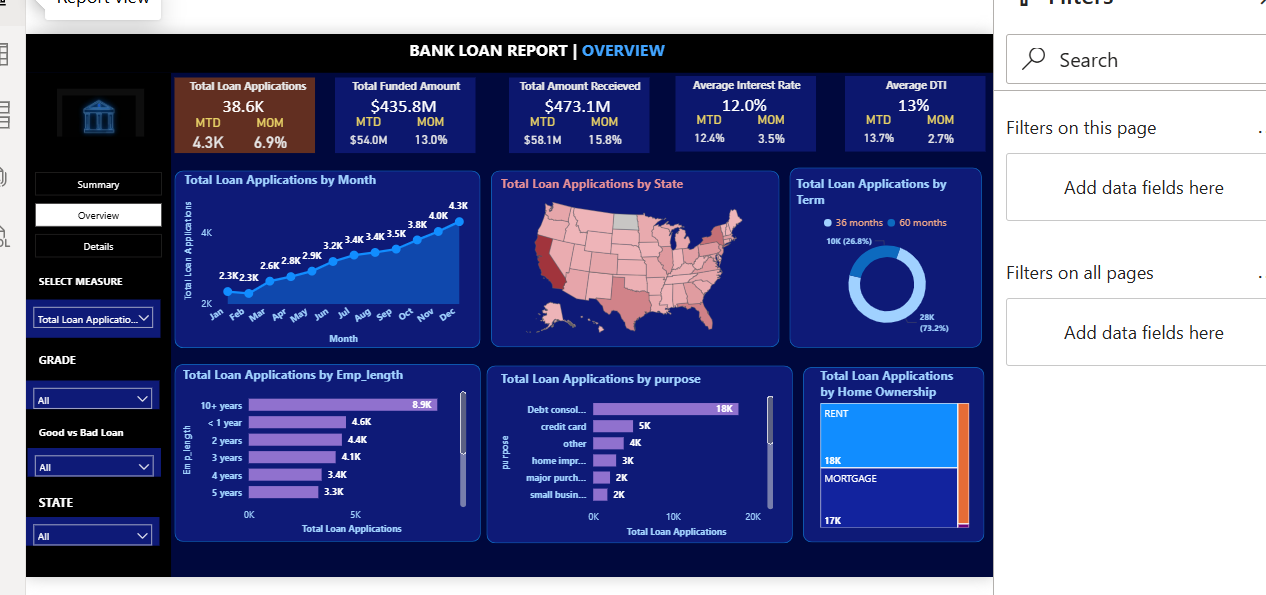

The page's visual inventory and layout, read from the dashboard file:
{"tool":"powerbi","page":{"name":"Overview","canvas":[1280,720],"ordinal":1},"visuals":[{"type":"shape","box":[0,0,1280.7,51.6],"z":0},{"type":"shape","box":[858.9,56.2,186.1,100.2],"z":0,"group":"g4"},{"type":"shape","box":[1083.2,56.2,186.1,100.2],"z":0,"group":"g5"},{"type":"shape","box":[408.8,57.8,186.1,100.2],"z":0,"group":"g2"},{"type":"shape","box":[639.4,57.8,186.1,100.2],"z":0,"group":"g3"},{"type":"shape","box":[197.2,58.9,186.1,100.2],"z":0,"group":"g1"},{"type":"textbox","box":[502.6,0,356.3,81.1],"z":1000},{"type":"group","id":"g1","title":"Group 1","box":[197.2,54.1,186.1,105],"z":2000},{"type":"shape","box":[197.2,179.7,405,235],"z":3000},{"type":"group","id":"g2","title":"Group 1","box":[408.8,54.1,187.7,103.4],"z":4000},{"type":"card","fields":{"Values":["financial_loan.Average Interest Rate"]},"box":[858.9,56.2,181.3,74.8],"z":4000,"group":"g4"},{"type":"card","fields":{"Values":["financial_loan.Average DTI"]},"box":[1083.2,56.2,181.3,74.8],"z":4000,"group":"g5"},{"type":"card","fields":{"Values":["financial_loan.Total Funded Amount"]},"box":[408.8,57.8,181.3,74.8],"z":4000,"group":"g2"},{"type":"card","fields":{"Values":["financial_loan.Total Amount Recieved"]},"box":[639.4,57.8,181.3,74.8],"z":4000,"group":"g3"},{"type":"card","fields":{"Values":["financial_loan.Total Loan Applications"]},"box":[197.2,58.9,181.3,74.8],"z":4000,"group":"g1"},{"type":"textbox","box":[861.8,52.5,184.5,35],"z":5000,"group":"g4"},{"type":"textbox","box":[1086.1,52.5,184.5,35],"z":5000,"group":"g5"},{"type":"textbox","box":[205.2,54.1,178.1,35],"z":5000,"group":"g1"},{"type":"textbox","box":[411.7,54.1,184.5,35],"z":5000,"group":"g2"},{"type":"group","id":"g3","title":"Group 1","box":[639.4,54.1,187.7,103.4],"z":5000},{"type":"textbox","box":[642.3,54.1,184.5,35],"z":5000,"group":"g3"},{"type":"group","id":"g4","title":"Group 1","box":[858.9,52.5,187.7,103.4],"z":6000},{"type":"card","title":"MTD","fields":{"Values":["financial_loan.MTD Average Interest Rate"]},"box":[866.9,104.5,72.9,50.6],"z":6000,"group":"g4"},{"type":"card","title":"MTD","fields":{"Values":["financial_loan.MTD Average DTI"]},"box":[1091.2,104.5,72.9,50.6],"z":6000,"group":"g5"},{"type":"card","title":"MTD","fields":{"Values":["financial_loan.MTD Funded Amount"]},"box":[416.8,106.1,72.9,50.6],"z":6000,"group":"g2"},{"type":"card","title":"MTD","fields":{"Values":["financial_loan.MTD Total Amount Recieved"]},"box":[647.4,106.1,72.9,50.6],"z":6000,"group":"g3"},{"type":"card","title":"MTD","fields":{"Values":["financial_loan.MTD Loan Application"]},"box":[205.2,107.2,72.9,50.6],"z":6000,"group":"g1"},{"type":"group","id":"g5","title":"Group 1","box":[1083.2,52.5,187.7,103.4],"z":7000},{"type":"card","title":"MOM","fields":{"Values":["financial_loan.MOM Average Interest Rate"]},"box":[956.1,104.5,58.7,50.6],"z":7000,"group":"g4"},{"type":"card","title":"MOM","fields":{"Values":["financial_loan.MOM Average DTI"]},"box":[1180.4,104.5,58.7,50.6],"z":7000,"group":"g5"},{"type":"card","title":"MOM","fields":{"Values":["financial_loan.MOM Total Funded Amount"]},"box":[506,106.1,58.7,50.6],"z":7000,"group":"g2"},{"type":"card","title":"MOM","fields":{"Values":["financial_loan.MOM Total Amount Recieved"]},"box":[736.6,106.1,58.7,50.6],"z":7000,"group":"g3"},{"type":"card","title":"MOM","fields":{"Values":["financial_loan.MOM Loan Application"]},"box":[294.4,107.2,58.7,50.6],"z":7000,"group":"g1"},{"type":"shape","box":[0,51.6,192,669],"z":8000},{"type":"slicer","fields":{"Values":["financial_loan.address_state"]},"box":[0,639.4,176.6,38.2],"z":9000},{"type":"textbox","box":[12.7,602.8,76.3,36.6],"z":10000},{"type":"slicer","fields":{"Values":["financial_loan.Good vs Bad Loan"]},"box":[1.6,548.8,176.6,38.2],"z":11000},{"type":"slicer","fields":{"Values":["financial_loan.grade"]},"box":[0,458.1,176.6,38.2],"z":12000},{"type":"textbox","box":[12.7,512.2,122.5,36.6],"z":13000},{"type":"textbox","box":[12.7,415.1,122.5,42.9],"z":14000},{"type":"areaChart","fields":{"Y":["financial_loan.Total Loan Applications"],"Category":["Date Table.Month"]},"box":[205.2,179.7,384.9,235.4],"z":15000},{"type":"slicer","fields":{"Values":["Select Measures.Select Measures"]},"box":[0,351.5,178.1,50.9],"z":16000},{"type":"textbox","box":[12.7,311.8,147.9,46.1],"z":17000},{"type":"shape","box":[615.6,179.7,381.7,233.8],"z":18000},{"type":"shapeMap","fields":{"Value":["financial_loan.Total Loan Applications"],"Category":["financial_loan.address_state"]},"box":[623.5,186.1,362.7,222.7],"z":19000},{"type":"shape","box":[1010,176.6,254.5,238.6],"z":20000},{"type":"donutChart","fields":{"Y":["financial_loan.Total Loan Applications"],"Category":["financial_loan.term"]},"box":[1014.8,186.1,249.7,216.3],"z":21000},{"type":"shape","box":[197.2,437.4,405.6,235.4],"z":22000},{"type":"shape","box":[609.2,439,405.6,235.4],"z":23000},{"type":"shape","box":[1029.1,440.6,240.2,232.2],"z":24000},{"type":"barChart","fields":{"Y":["financial_loan.Total Loan Applications"],"Category":["financial_loan.emp_length"]},"box":[202,439,384.9,229],"z":25000},{"type":"barChart","fields":{"Y":["financial_loan.Total Loan Applications"],"Category":["financial_loan.purpose"]},"box":[623.5,443.8,370.6,225.9],"z":26000},{"type":"treemap","fields":{"Values":["financial_loan.Total Loan Applications"],"Group":["financial_loan.home_ownership"]},"box":[1046.6,440.6,206.8,217.9],"z":27000},{"type":"pageNavigator","box":[12.7,182.9,168.6,114.5],"z":28000},{"type":"image","box":[35,27,125.7,152.7],"z":29000}]}

Visuals, with their boxes on the page's 1280x720 design canvas (x1, y1, x2, y2). These are canvas units, not pixel positions in the 1266x595 screenshot, which may show the page scaled, cropped or inside an application window:
shape: left=0, top=0, right=1281, bottom=52
shape: left=859, top=56, right=1045, bottom=156
shape: left=1083, top=56, right=1269, bottom=156
shape: left=409, top=58, right=595, bottom=158
shape: left=639, top=58, right=826, bottom=158
shape: left=197, top=59, right=383, bottom=159
textbox: left=503, top=0, right=859, bottom=81
"Group 1" group: left=197, top=54, right=383, bottom=159
shape: left=197, top=180, right=602, bottom=415
"Group 1" group: left=409, top=54, right=596, bottom=158
card - financial_loan.Average Interest Rate: left=859, top=56, right=1040, bottom=131
card - financial_loan.Average DTI: left=1083, top=56, right=1264, bottom=131
card - financial_loan.Total Funded Amount: left=409, top=58, right=590, bottom=133
card - financial_loan.Total Amount Recieved: left=639, top=58, right=821, bottom=133
card - financial_loan.Total Loan Applications: left=197, top=59, right=378, bottom=134
textbox: left=862, top=52, right=1046, bottom=88
textbox: left=1086, top=52, right=1271, bottom=88
textbox: left=205, top=54, right=383, bottom=89
textbox: left=412, top=54, right=596, bottom=89
"Group 1" group: left=639, top=54, right=827, bottom=158
textbox: left=642, top=54, right=827, bottom=89
"Group 1" group: left=859, top=52, right=1047, bottom=156
"MTD" card: left=867, top=104, right=940, bottom=155
"MTD" card: left=1091, top=104, right=1164, bottom=155
"MTD" card: left=417, top=106, right=490, bottom=157
"MTD" card: left=647, top=106, right=720, bottom=157
"MTD" card: left=205, top=107, right=278, bottom=158
"Group 1" group: left=1083, top=52, right=1271, bottom=156
"MOM" card: left=956, top=104, right=1015, bottom=155
"MOM" card: left=1180, top=104, right=1239, bottom=155
"MOM" card: left=506, top=106, right=565, bottom=157
"MOM" card: left=737, top=106, right=795, bottom=157
"MOM" card: left=294, top=107, right=353, bottom=158
shape: left=0, top=52, right=192, bottom=721
slicer - financial_loan.address_state: left=0, top=639, right=177, bottom=678
textbox: left=13, top=603, right=89, bottom=639
slicer - financial_loan.Good vs Bad Loan: left=2, top=549, right=178, bottom=587
slicer - financial_loan.grade: left=0, top=458, right=177, bottom=496
textbox: left=13, top=512, right=135, bottom=549
textbox: left=13, top=415, right=135, bottom=458
areaChart - financial_loan.Total Loan Applications x Date Table.Month: left=205, top=180, right=590, bottom=415
slicer - Select Measures.Select Measures: left=0, top=352, right=178, bottom=402
textbox: left=13, top=312, right=161, bottom=358
shape: left=616, top=180, right=997, bottom=414
shapeMap - financial_loan.Total Loan Applications x financial_loan.address_state: left=624, top=186, right=986, bottom=409
shape: left=1010, top=177, right=1264, bottom=415
donutChart - financial_loan.Total Loan Applications x financial_loan.term: left=1015, top=186, right=1264, bottom=402
shape: left=197, top=437, right=603, bottom=673
shape: left=609, top=439, right=1015, bottom=674
shape: left=1029, top=441, right=1269, bottom=673
barChart - financial_loan.Total Loan Applications x financial_loan.emp_length: left=202, top=439, right=587, bottom=668
barChart - financial_loan.Total Loan Applications x financial_loan.purpose: left=624, top=444, right=994, bottom=670
treemap - financial_loan.Total Loan Applications x financial_loan.home_ownership: left=1047, top=441, right=1253, bottom=658
pageNavigator: left=13, top=183, right=181, bottom=297
image: left=35, top=27, right=161, bottom=180
